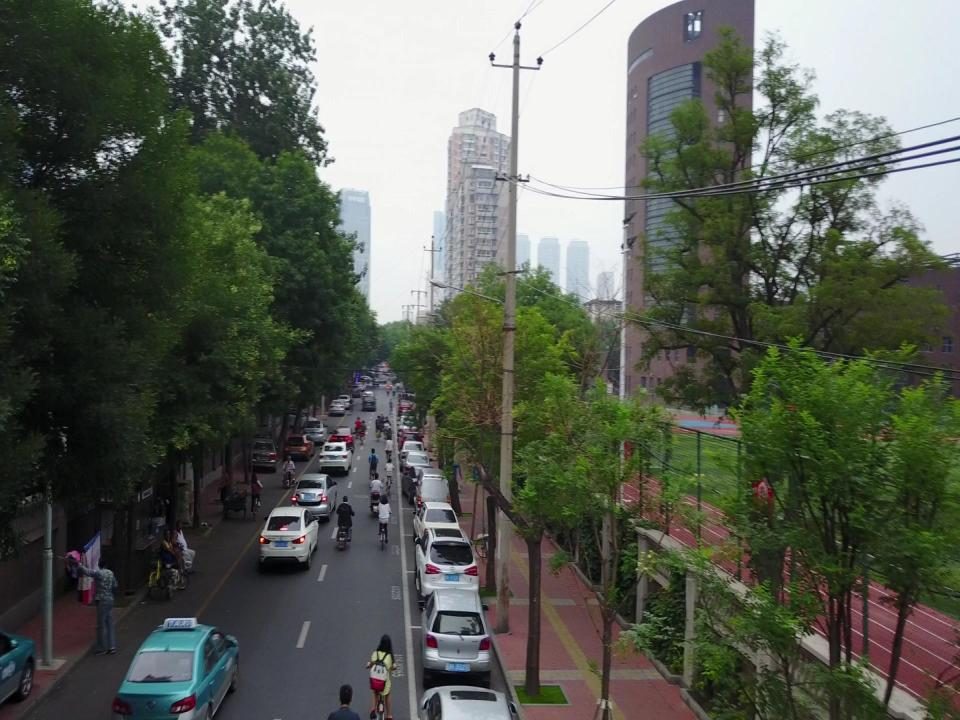car: (111, 617, 240, 720), (416, 587, 494, 690), (414, 527, 482, 610), (258, 506, 319, 570), (419, 683, 523, 720), (0, 624, 38, 715), (412, 501, 464, 548), (291, 473, 338, 522), (401, 465, 445, 505), (247, 434, 279, 473), (318, 441, 354, 475), (403, 451, 433, 484), (283, 434, 315, 462), (399, 441, 427, 471), (285, 407, 319, 429), (329, 425, 356, 452), (396, 431, 426, 455), (301, 420, 329, 442), (329, 399, 345, 416), (336, 394, 352, 410), (362, 398, 376, 412), (397, 400, 413, 412)
van: (413, 467, 453, 523)
